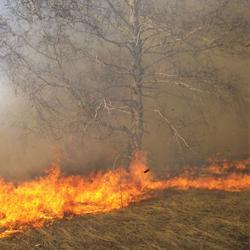fire: (0, 173, 130, 221)
